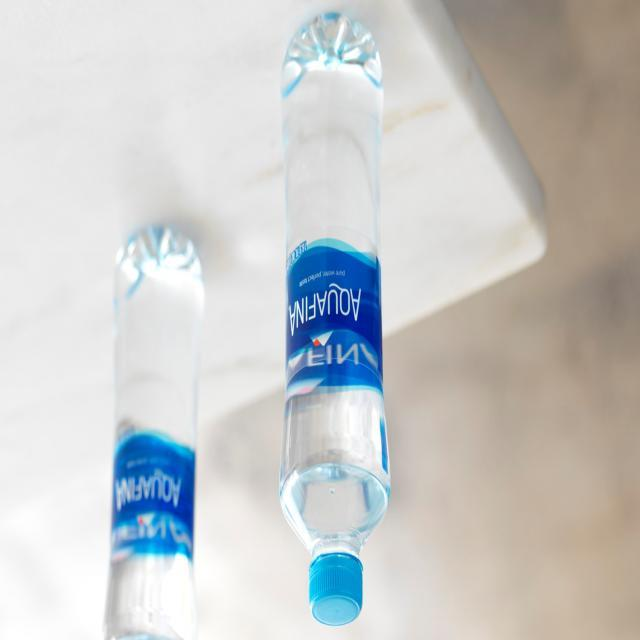plastic: (277, 18, 392, 640)
